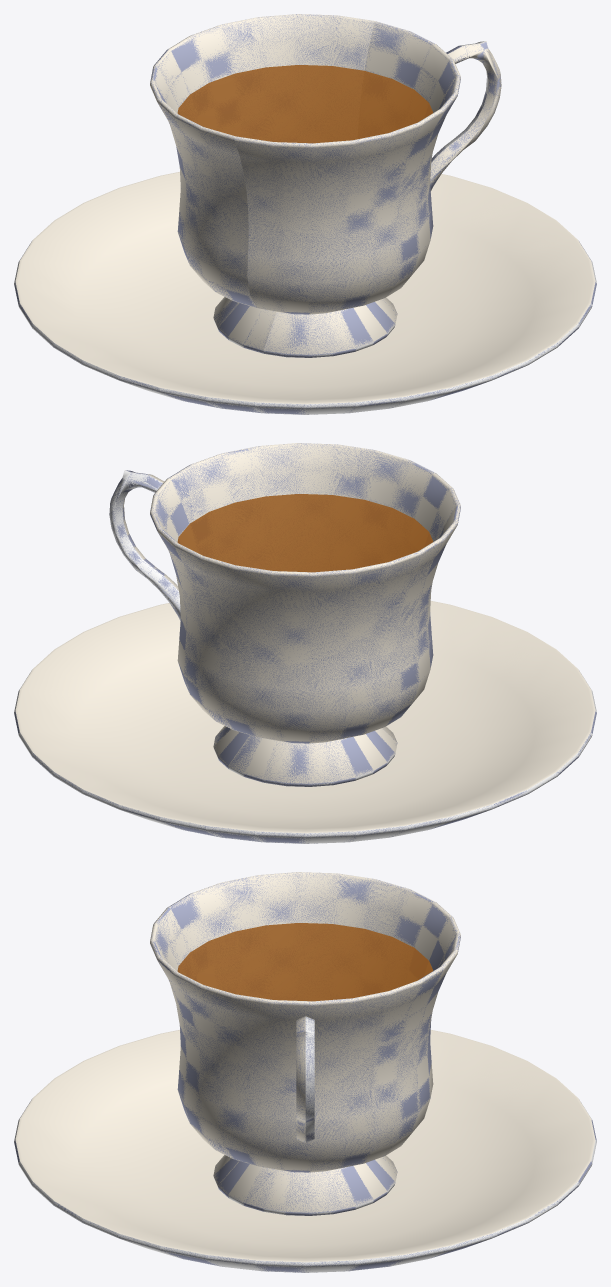
Rendered from tea+cup+06.fbx.
3 views of the same model, one above another, from view 1: azimuth 30°, elevation 25°; view 2: azimuth 150°, elevation 25°; view 3: azimuth 270°, elevation 25° (orthographic).
Visible parts, largest first — view 1: Group3, Component_9_1, Component_9_2, Component_7_1, Component_7_2, Group1, Component_12_32, Component_12_35; view 2: Group3, Component_9_2, Component_9_1, Component_7_2, Component_7_1, Group2, Component_12_31, Component_12_34; view 3: Group3, Component_9_1, Component_9_2, Component_7_1, Component_7_2, Group1, Group2, Component_12_5, Component_12_16.
Boxes of the visible parts, <box> form: Group3: <box>15,172,595,404</box>; Component_9_1: <box>234,21,460,357</box>; Component_9_2: <box>150,14,374,353</box>; Component_7_1: <box>177,65,364,142</box>; Component_7_2: <box>278,71,433,143</box>; Group1: <box>430,41,501,191</box>; Component_12_32: <box>255,402,305,414</box>; Component_12_35: <box>305,402,355,414</box>; Group3: <box>15,601,595,833</box>; Component_9_2: <box>150,504,460,786</box>; Component_9_1: <box>150,443,460,746</box>; Component_7_2: <box>177,494,433,550</box>; Component_7_1: <box>194,546,426,572</box>; Group2: <box>109,470,180,620</box>; Component_12_31: <box>255,831,305,843</box>; Component_12_34: <box>305,831,355,843</box>; Group3: <box>15,1030,595,1262</box>; Component_9_1: <box>150,882,389,1215</box>; Component_9_2: <box>222,872,460,1209</box>; Component_7_1: <box>235,923,433,999</box>; Component_7_2: <box>177,931,337,1001</box>; Group1: <box>296,1016,305,1142</box>; Group2: <box>305,1016,314,1142</box>; Component_12_5: <box>255,1260,305,1272</box>; Component_12_16: <box>305,1260,355,1272</box>.
Bounding box in the file's own units: 0.16 × 0.0814 × 0.16.
